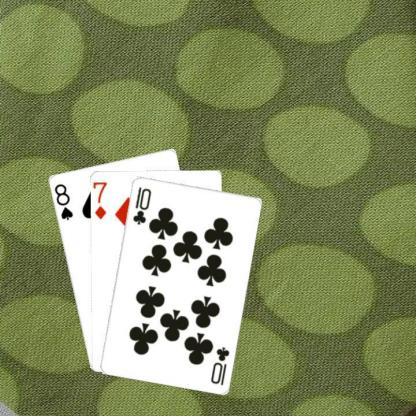10C: (130, 184, 152, 226), (208, 344, 230, 386)
7D: (92, 178, 108, 221)
8S: (51, 181, 74, 221)
